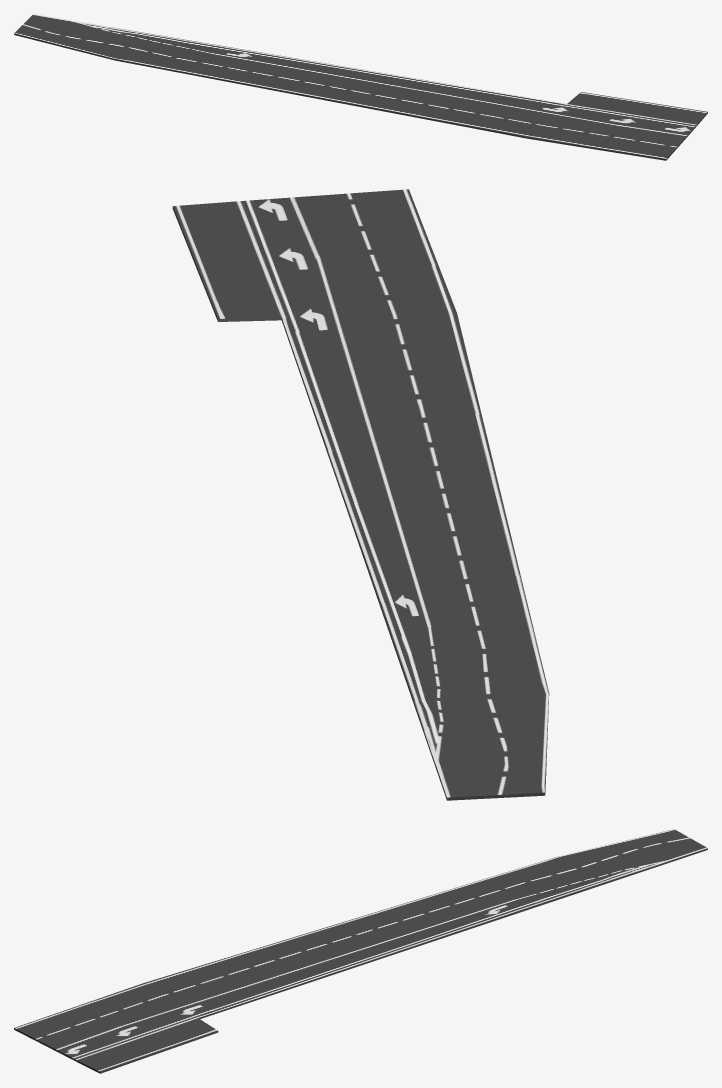
The model's file is levocska2.fbx.
3 renders of one model, top to bottom at view 1: azimuth 30°, elevation 25°; view 2: azimuth 150°, elevation 25°; view 3: azimuth 270°, elevation 25°, orthographic. The views are drawn at different scales.
Parts seen in each view (by area): view 1: road.002; view 2: road.002; view 3: road.002.
Part boxes in pixels (x1,y1,x2,y2): road.002: [14, 14, 707, 160]; road.002: [172, 189, 549, 800]; road.002: [14, 829, 707, 1073].
Bounding box in the file's own units: 7107 × 5884 × 20.
Materials: 1 (1 with a texture image).
